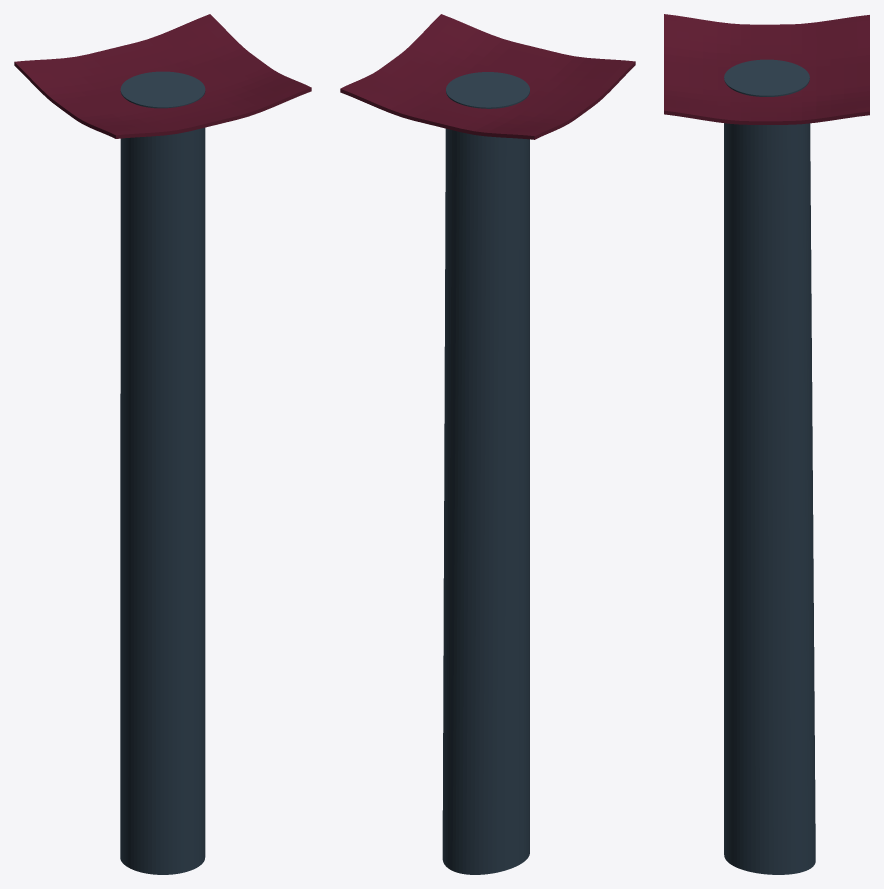
Rendered from Lampadaire_on.fbx.
3 views of the same model, side by side, from view 1: azimuth 30°, elevation 25°; view 2: azimuth 150°, elevation 25°; view 3: azimuth 270°, elevation 25° (orthographic).
Visible parts, largest first — view 1: Poteau, Luminaire; view 2: Poteau, Luminaire; view 3: Poteau, Luminaire.
Boxes of the visible parts, x1=… form: Poteau: x1=120, y1=71, x2=205, y2=874; Luminaire: x1=14, y1=14, x2=311, y2=138; Poteau: x1=442, y1=72, x2=529, y2=874; Luminaire: x1=340, y1=14, x2=635, y2=139; Poteau: x1=724, y1=59, x2=815, y2=874; Luminaire: x1=664, y1=14, x2=869, y2=124.
Size of the model in its own units: 80.08 by 308 by 72.
